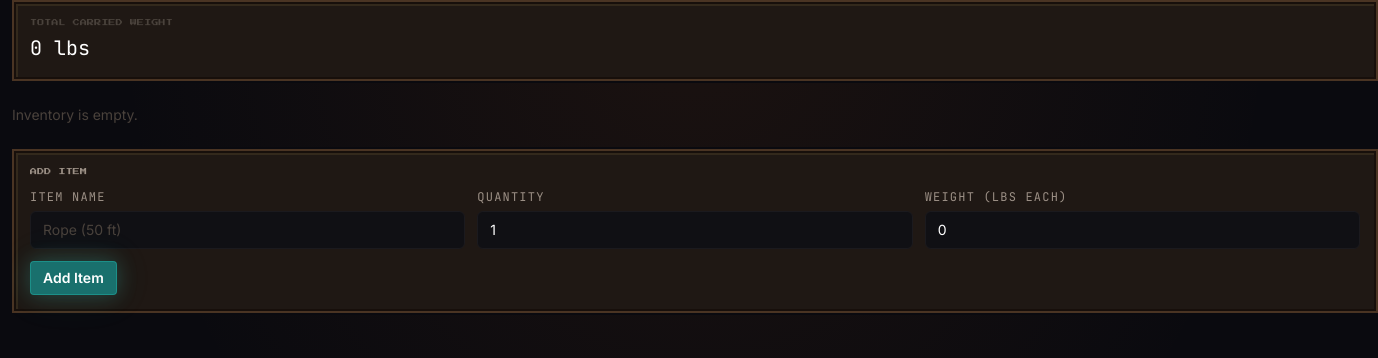
Test: InventoryTab › shows a validation error for empty item name
This screenshot has width=1378, height=358.
Click the button "Add Item".
click(73, 278)  # box x1=30 y1=261 x2=117 y2=295
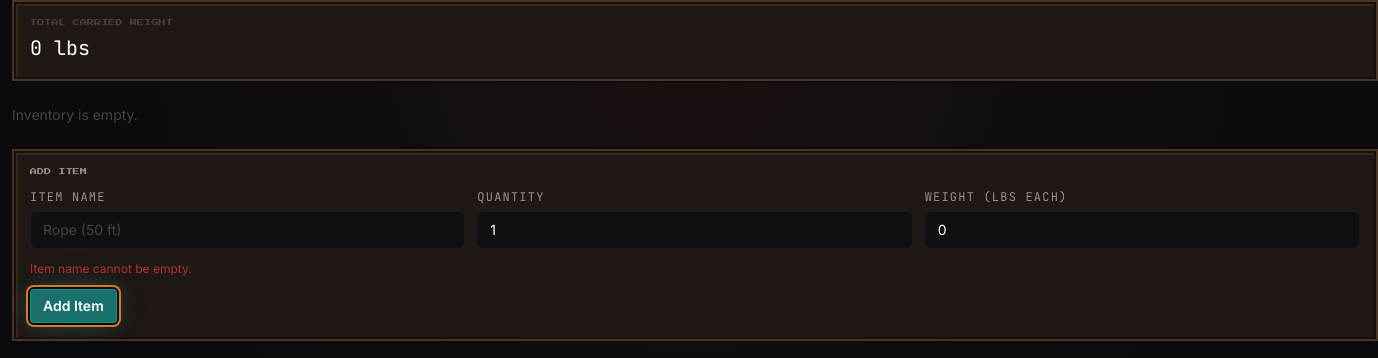
Result: the message shows "cannot be empty" at x1=30 y1=261 x2=192 y2=276
